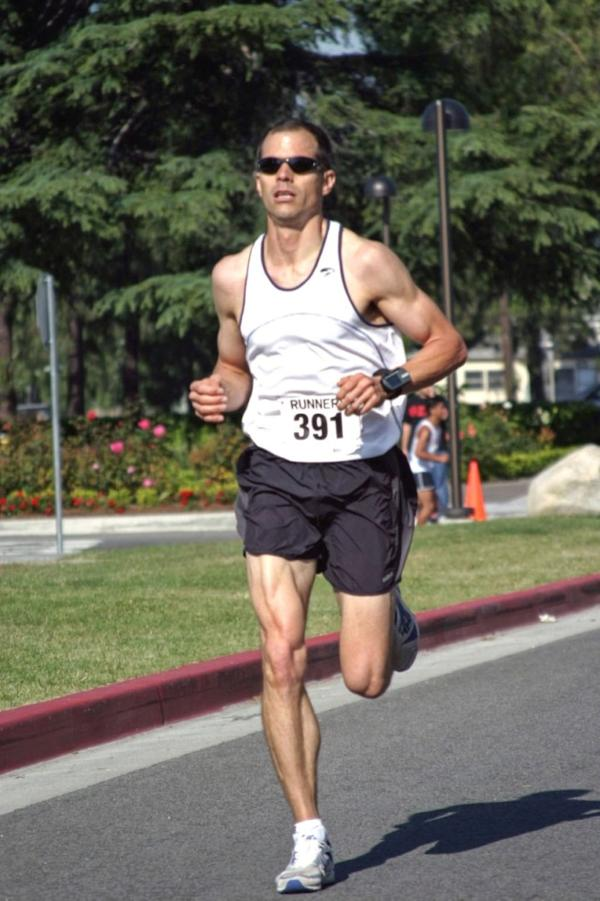person: (190, 120, 468, 894)
